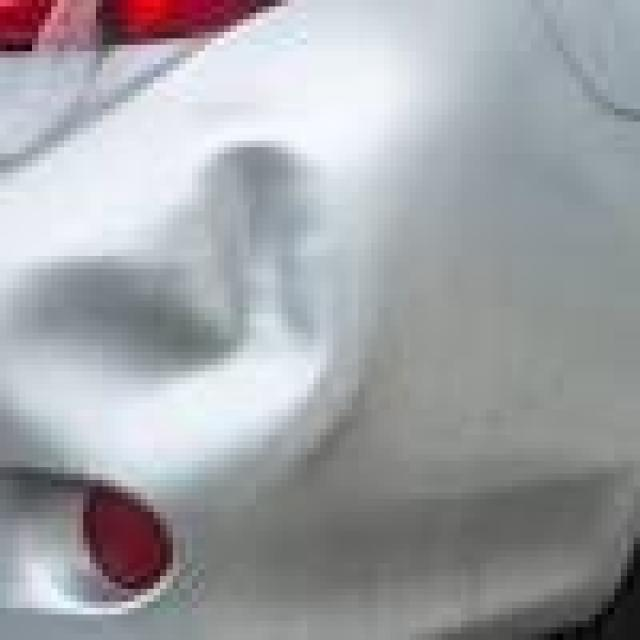minor: (12, 170, 437, 620)
